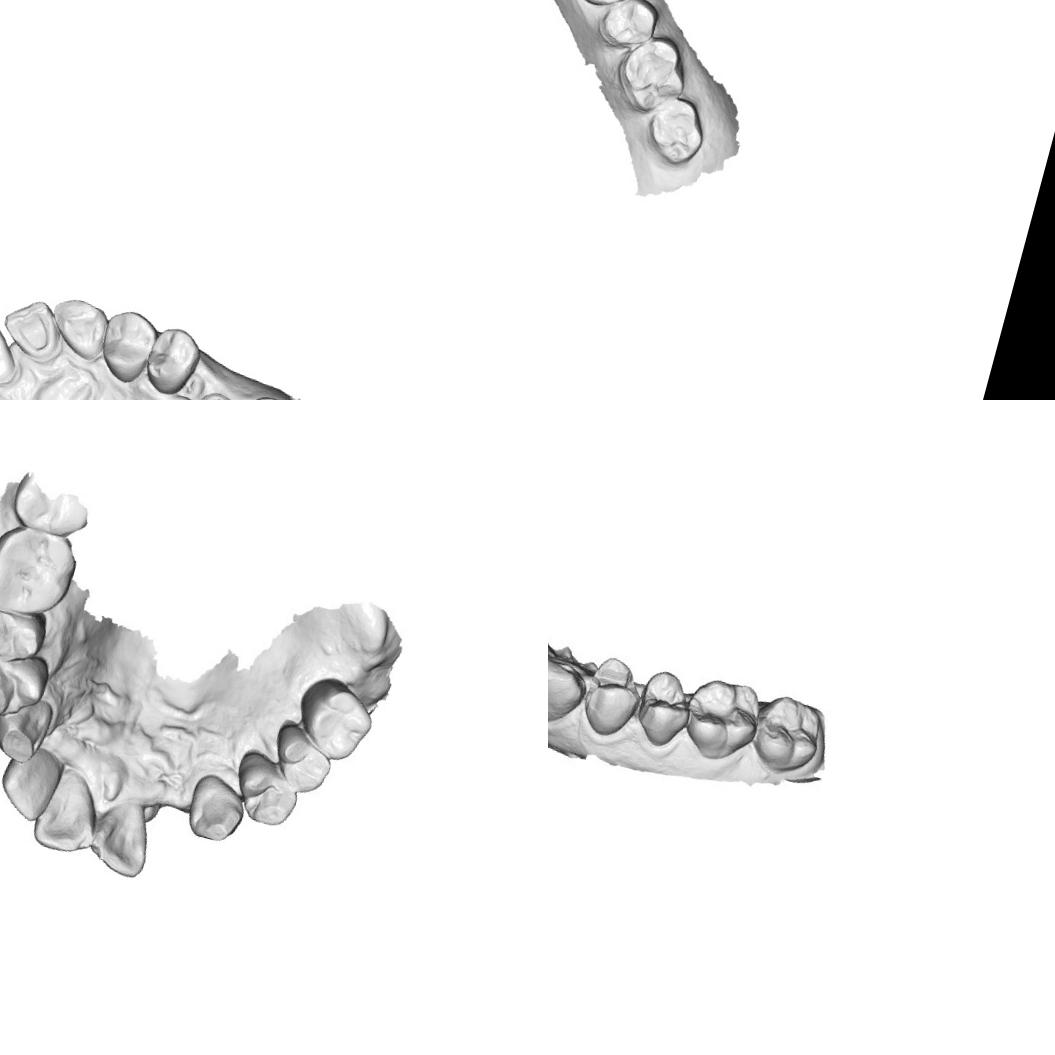canine: (178, 766, 254, 848), (44, 291, 112, 365), (0, 691, 59, 768), (548, 654, 586, 725)
implant_minus: (191, 382, 241, 400)
incisor: (28, 767, 103, 858), (80, 798, 156, 880), (0, 290, 72, 368), (0, 742, 59, 823), (0, 302, 27, 389)
molar: (287, 670, 381, 767), (0, 517, 83, 625), (675, 670, 764, 766), (608, 24, 695, 122), (744, 687, 831, 780), (637, 88, 715, 173)
premolar: (227, 749, 308, 834), (262, 718, 338, 798), (578, 654, 648, 737), (91, 304, 160, 388), (140, 319, 207, 400), (632, 665, 697, 746), (0, 640, 55, 726), (593, 0, 665, 56), (0, 601, 48, 676), (570, 0, 645, 15)
